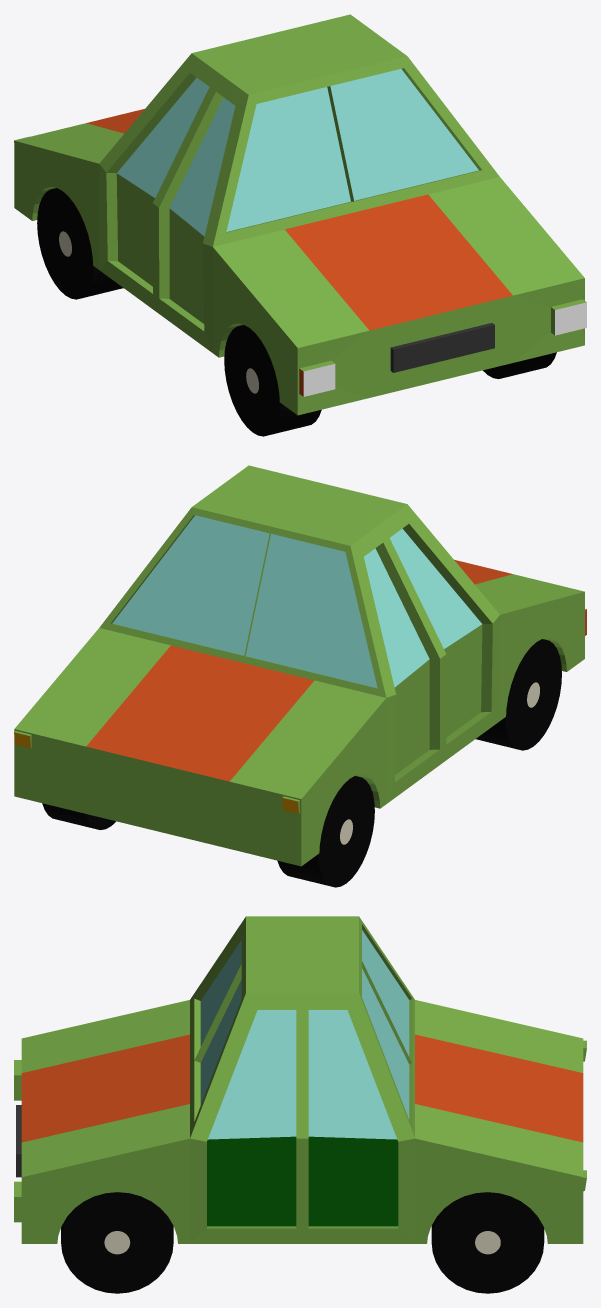
File: CarLesson7.fbx
3 views of the same model, one above another, from view 1: azimuth 30°, elevation 25°; view 2: azimuth 150°, elevation 25°; view 3: azimuth 270°, elevation 25° (orthographic).
Parts seen in each view (by area): view 1: Cube, Cylinder.002, Cylinder.003, Cylinder; view 2: Cube, Cylinder.003, Cylinder.002, Cylinder.001; view 3: Cube, Cylinder.001, Cylinder.
Boxes of the visible parts, x1,y1,x2,y2 form: Cube: (14,14,586,415); Cylinder.002: (224,325,321,436); Cylinder.003: (37,188,123,299); Cylinder: (483,352,556,378); Cube: (14,465,586,866); Cylinder.003: (277,776,374,887); Cylinder.002: (475,639,561,750); Cylinder.001: (42,803,115,829); Cube: (14,916,586,1243); Cylinder.001: (431,1192,544,1293); Cylinder: (61,1192,173,1293).
Bounding box in the file's own units: 4.03 × 3.65 × 6.96.
